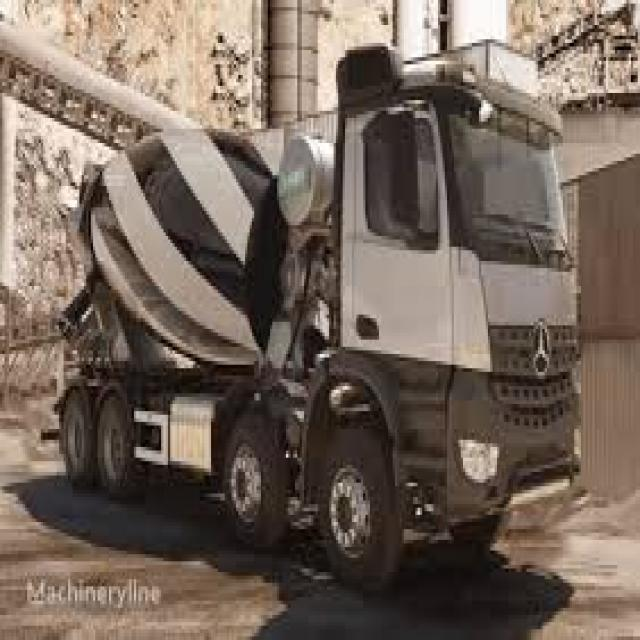Mixer Truck: (42, 37, 583, 594)
